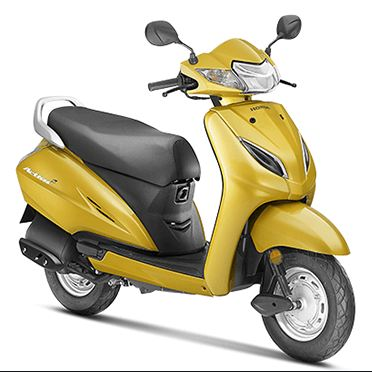bike: (16, 14, 357, 366)
